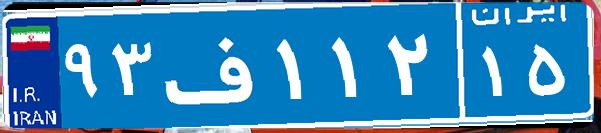1: (273, 28, 330, 110), (330, 28, 385, 110), (475, 38, 525, 113)
2: (385, 28, 445, 110)
3: (110, 28, 158, 105)
5: (525, 38, 570, 115)
9: (57, 26, 110, 107)
ف: (158, 15, 273, 115)
